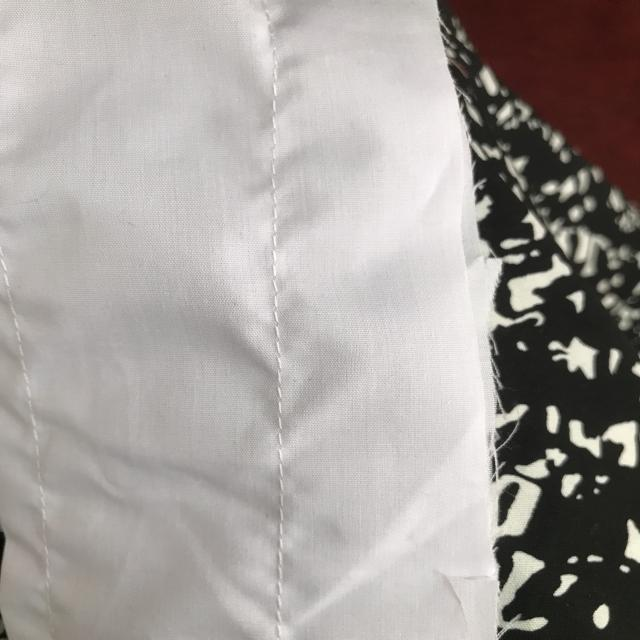good: (264, 444, 298, 618), (268, 237, 295, 396), (262, 68, 292, 208)
